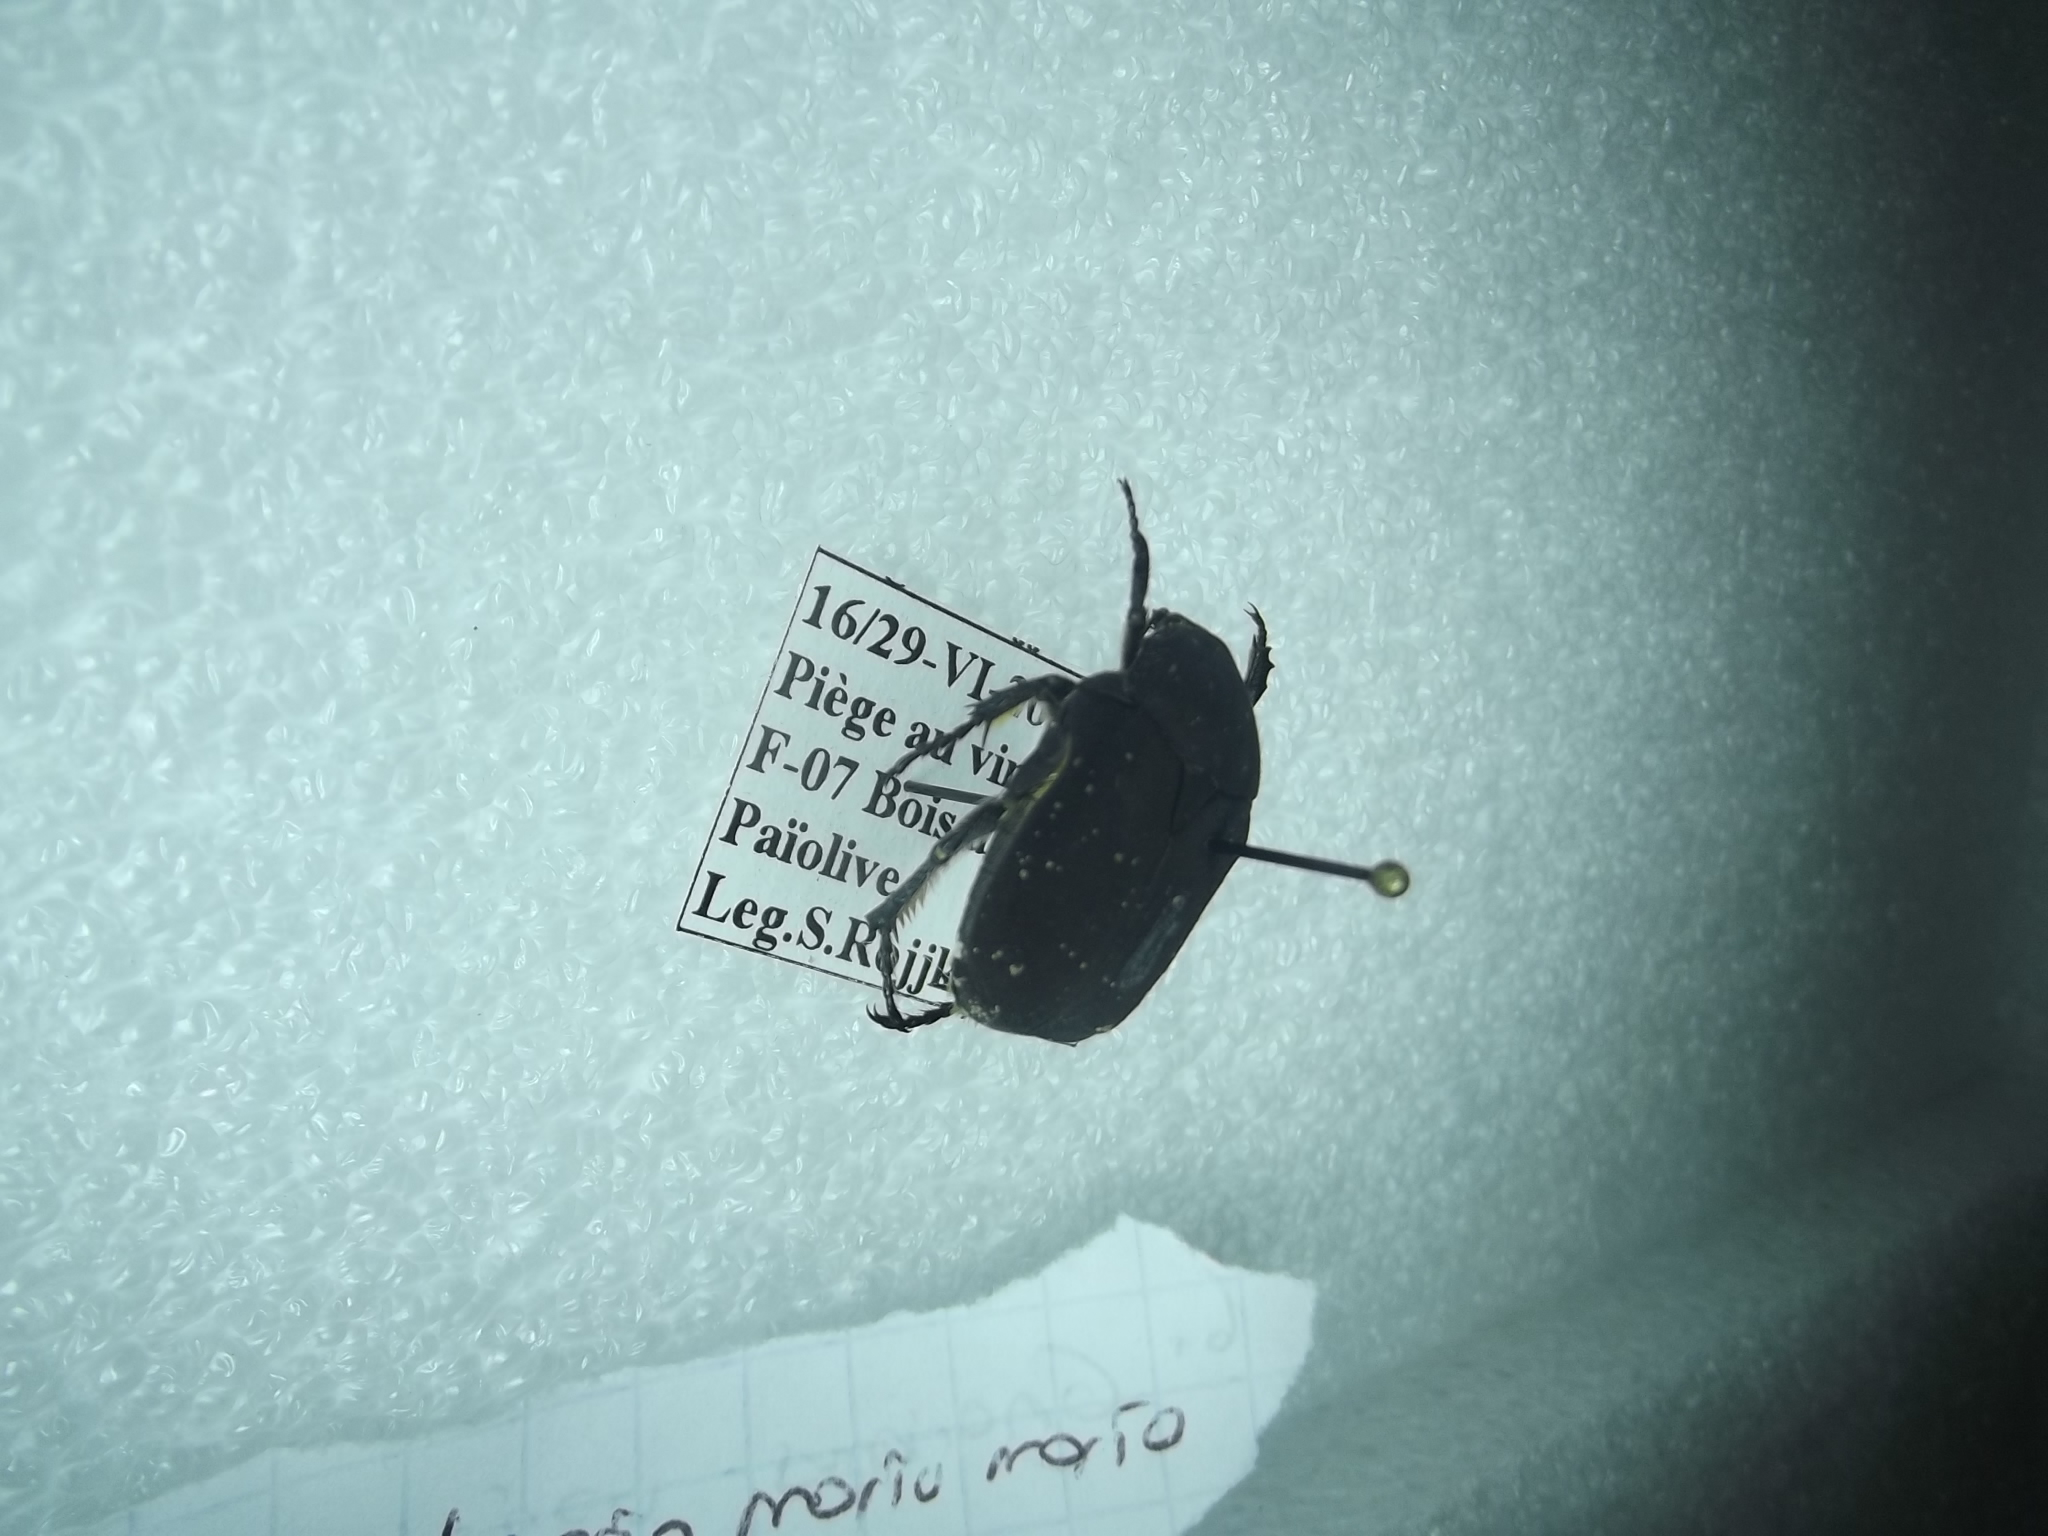Protaetia_morio_morio: (848, 457, 1343, 1054)
